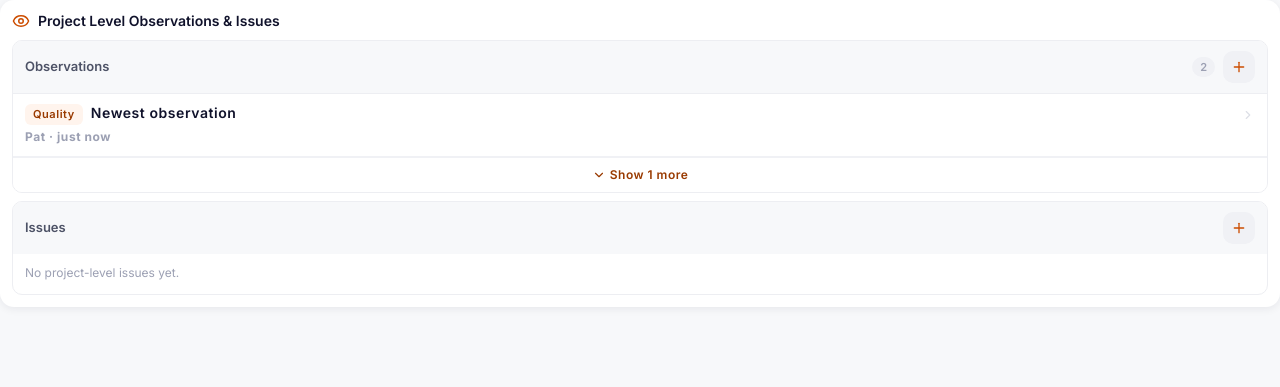
Test case: ProjectHubFieldNotesCard › shows only the most recent observation until expanded
Expected: the text "Newest observation" is shown, [91, 104, 236, 123]
Expected: the text "Older observation" is not shown
Click the button "Show 1 more": click(640, 174) [13, 156, 1267, 192]
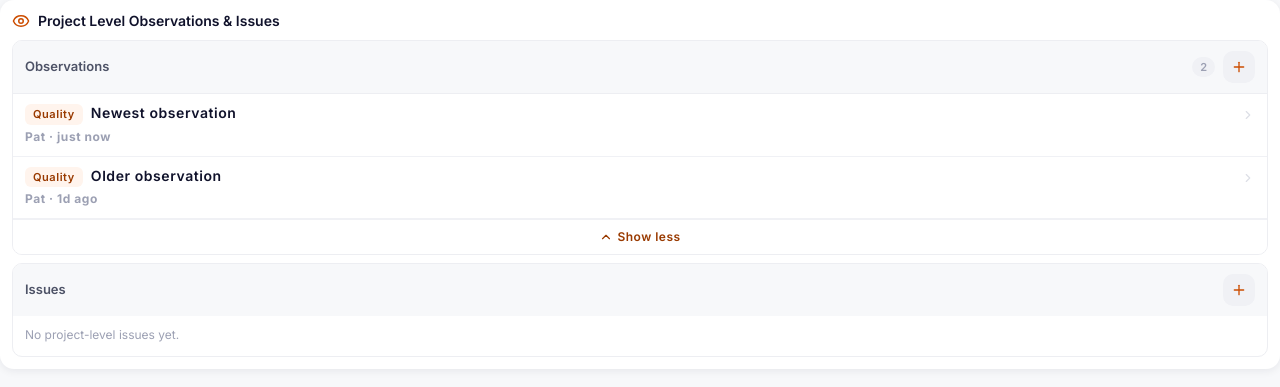
Expected: the text "Older observation" is shown, [91, 166, 222, 185]
Expected: the button "Show less" is shown, [13, 219, 1267, 254]
